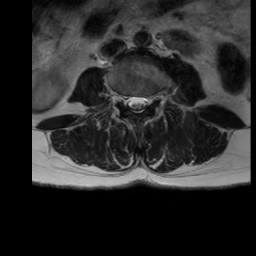CCS_normal: (134, 88, 141, 119)
LFS_normal: (148, 85, 156, 109)
LLS_normal: (141, 87, 148, 117)
RFS_normal: (117, 86, 126, 112)
RLS_normal: (126, 88, 134, 116)
